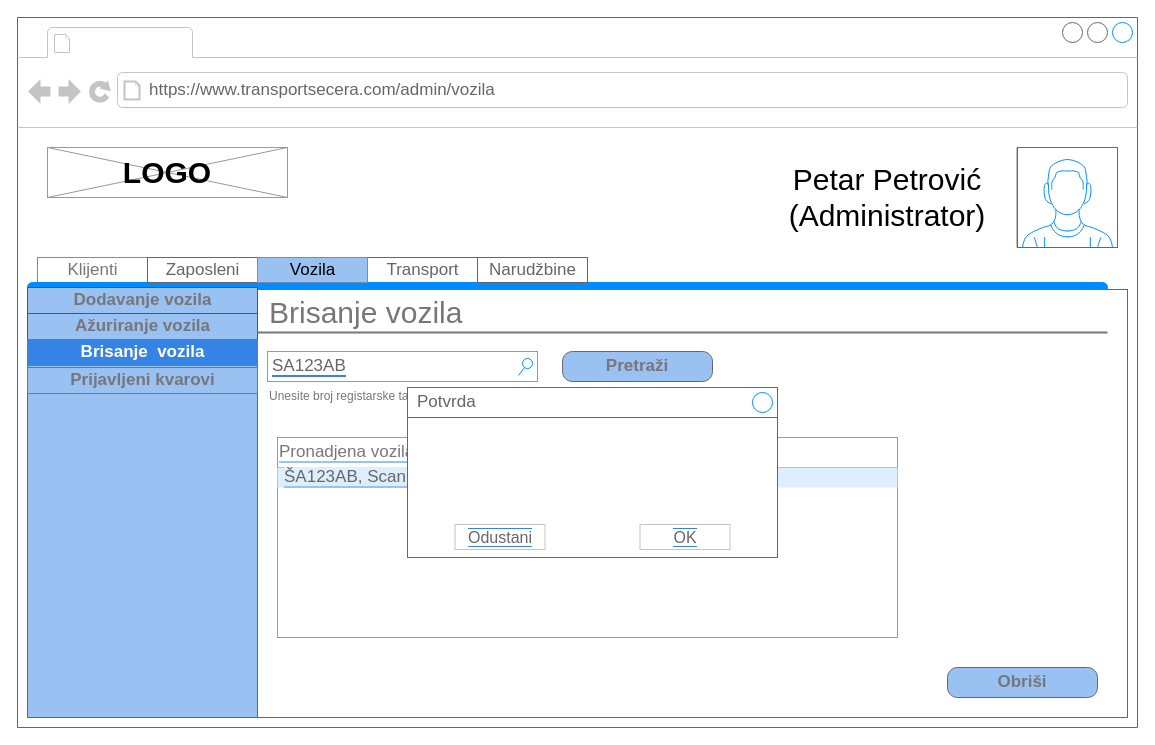
This 1155x745 diagram has some shape labels left out. Here are the shapes that lost their labels. From the top down, the centre of each, then its label:
At point 132,42: "Transport šećera".
At point 592,472: "Da li ste sigurni da želite da sačuvate izmene?".
